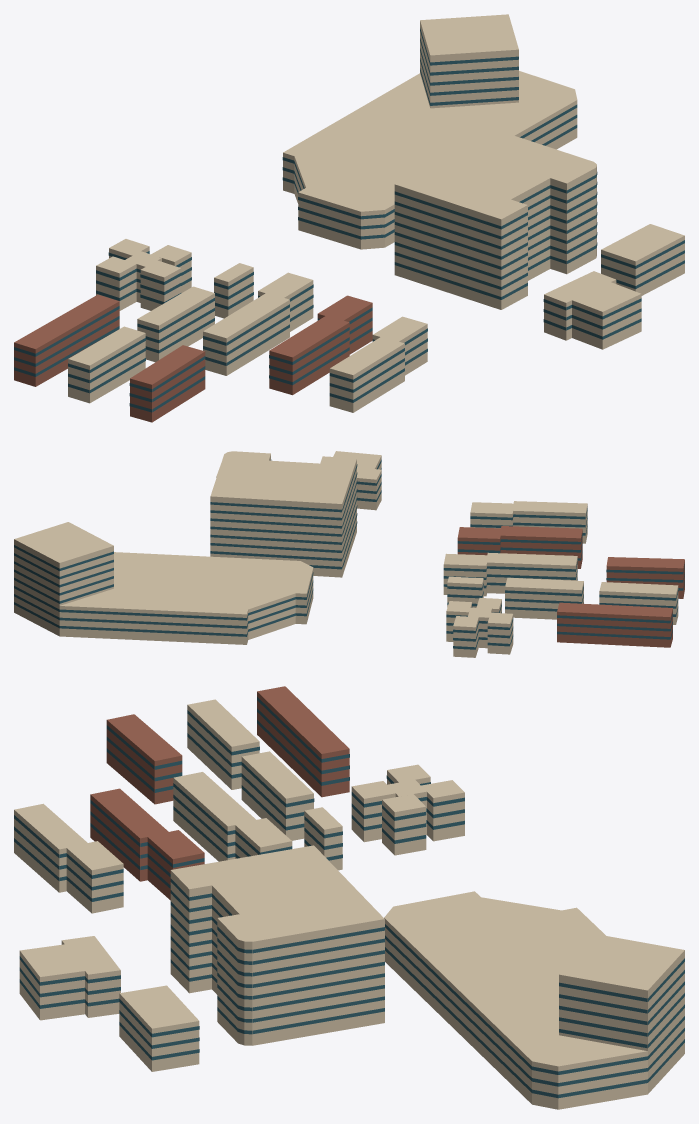
The model's file is city_8_-5.glb.
The picture shows the model from 3 angles, top to bottom: view 1: azimuth 30°, elevation 25°; view 2: azimuth 150°, elevation 25°; view 3: azimuth 270°, elevation 25°; orthographic projection. The views are drawn at different scales.
Visible parts, largest first — view 1: city_8_-5; view 2: city_8_-5; view 3: city_8_-5.
Boxes of the visible parts, box(x1,y1,x2,y2) form: city_8_-5: box(14, 14, 684, 422); city_8_-5: box(14, 451, 684, 657); city_8_-5: box(14, 686, 684, 1109).
Bounding box in the file's own units: 282 × 36 × 210.
